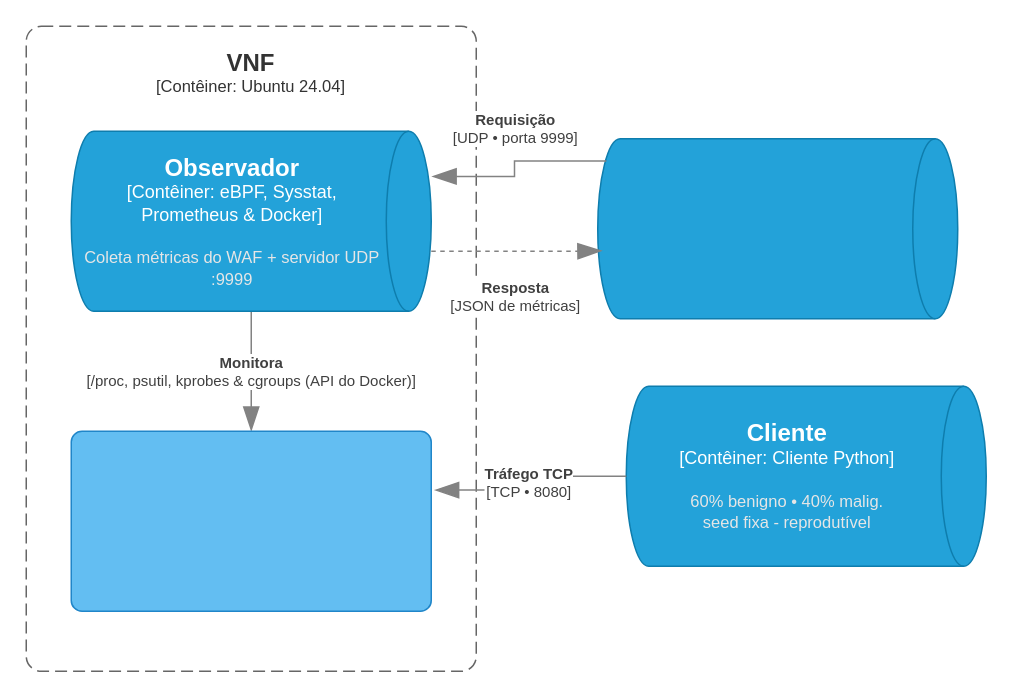
Image size: 1013x698. Some labels were removed from this diagram. Here are the shapes that lost their labels. From the top down, the centre of each, then its label:
At pixel 777 228: "Coletor [Contêiner: Python • Cliente UDP] Envia 1 requisição/s e mede o RTT".
At pixel 250 520: "WAF [Component: Python • Servidor TCP] Inspeciona tráfego TCP porta 8080".
